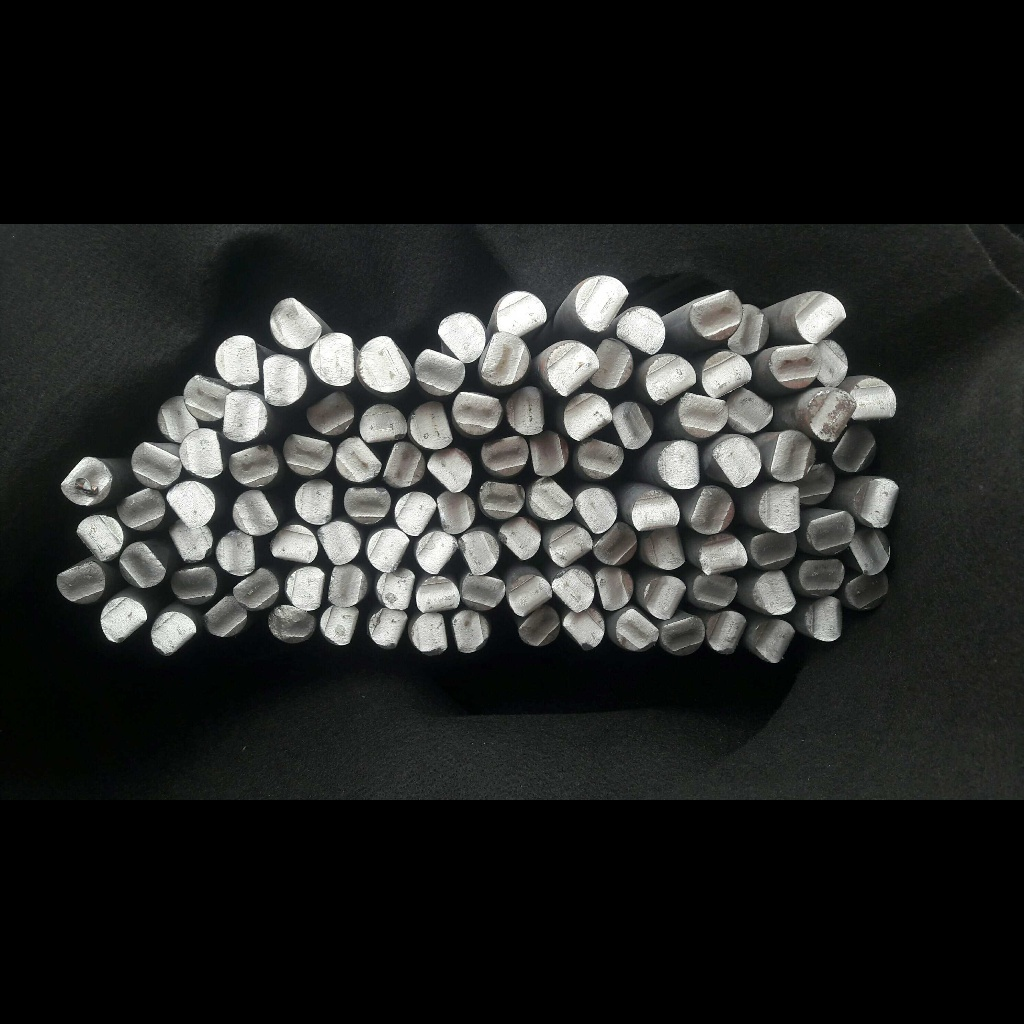dipstick: (354, 334, 412, 396), (687, 289, 740, 344), (711, 435, 763, 491), (547, 340, 598, 397), (576, 273, 627, 330), (437, 310, 486, 368), (481, 332, 529, 391), (414, 345, 464, 401), (58, 457, 111, 508), (792, 289, 848, 337), (270, 297, 321, 349), (804, 390, 855, 442), (258, 354, 307, 408), (309, 330, 355, 387), (223, 390, 268, 447), (452, 387, 503, 437), (523, 472, 575, 521), (213, 335, 262, 386), (561, 395, 614, 442), (545, 519, 594, 569), (645, 353, 696, 401), (824, 425, 875, 473), (704, 350, 753, 399), (726, 388, 776, 436), (166, 482, 217, 529), (616, 307, 667, 354), (305, 393, 358, 438), (115, 544, 170, 587), (231, 489, 281, 536), (180, 428, 225, 480), (55, 565, 108, 609), (74, 515, 123, 562), (132, 442, 181, 489), (689, 485, 738, 532), (282, 431, 333, 476), (769, 345, 821, 389), (99, 597, 147, 644), (426, 446, 474, 493), (406, 400, 453, 448), (494, 291, 549, 332), (502, 384, 547, 434), (225, 445, 278, 487), (264, 604, 317, 646), (382, 441, 429, 488), (855, 478, 900, 527), (591, 338, 632, 391), (680, 392, 728, 437), (848, 525, 893, 573), (657, 441, 701, 490), (854, 377, 898, 426), (480, 435, 530, 478), (697, 534, 750, 574), (151, 612, 198, 657), (213, 531, 260, 576), (759, 484, 804, 531), (767, 432, 811, 480), (169, 516, 212, 565), (184, 374, 226, 424), (505, 573, 555, 615), (611, 399, 653, 449), (529, 428, 570, 479), (335, 436, 381, 481), (641, 525, 687, 570), (156, 396, 199, 444), (269, 521, 317, 564), (594, 520, 637, 568), (359, 401, 409, 442), (117, 490, 165, 532), (200, 596, 248, 638), (752, 572, 800, 614), (317, 521, 361, 566), (551, 568, 595, 613), (704, 610, 748, 655), (170, 565, 216, 608), (457, 530, 500, 576), (477, 478, 525, 519), (366, 529, 410, 573), (642, 574, 685, 619), (233, 568, 279, 610), (395, 491, 437, 537), (630, 490, 682, 527), (343, 485, 391, 525), (326, 563, 370, 606), (317, 603, 359, 648), (293, 478, 334, 524), (574, 487, 615, 533), (283, 566, 323, 613), (451, 610, 491, 657), (578, 436, 625, 476), (658, 617, 705, 657), (692, 572, 739, 611), (814, 335, 849, 387), (615, 610, 658, 652), (461, 574, 506, 614), (756, 620, 796, 665), (417, 529, 456, 575), (733, 302, 768, 353), (498, 517, 540, 559), (593, 567, 636, 608), (808, 514, 851, 555), (435, 489, 474, 534), (517, 610, 562, 649), (805, 597, 844, 642), (374, 569, 414, 611), (411, 612, 449, 656), (845, 575, 890, 612), (370, 607, 408, 650), (751, 533, 797, 568), (561, 610, 602, 649), (799, 560, 844, 595), (797, 464, 834, 505), (415, 577, 459, 610)
